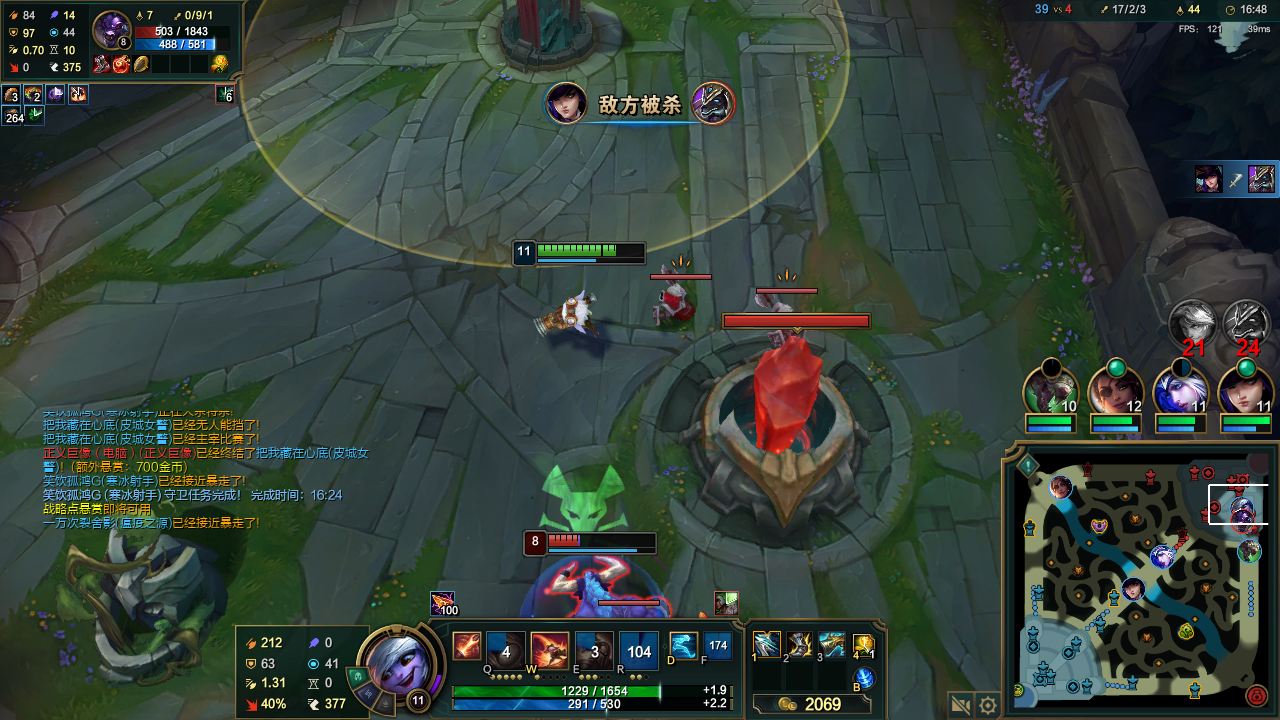DFSJ: (694, 331, 885, 540)
DFXB: (640, 280, 704, 338), (758, 297, 814, 348)
DFYX: (544, 527, 582, 558)
